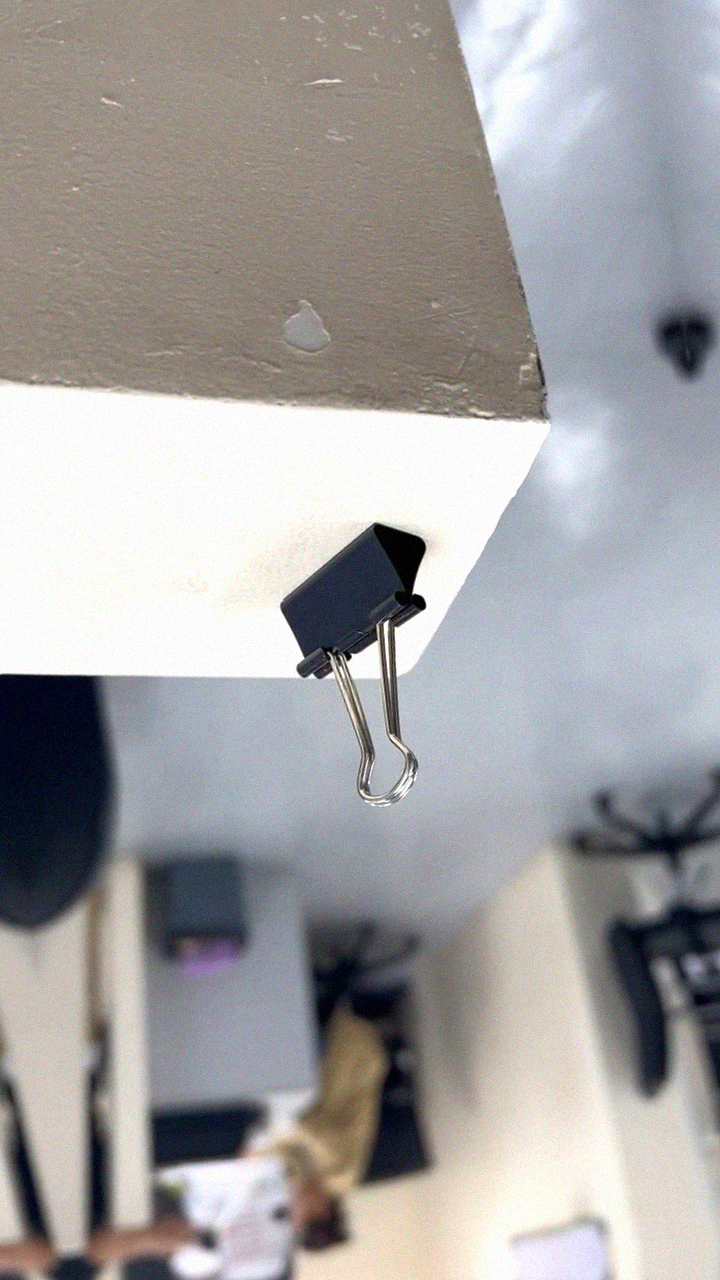kep_giay: (259, 511, 464, 819)
